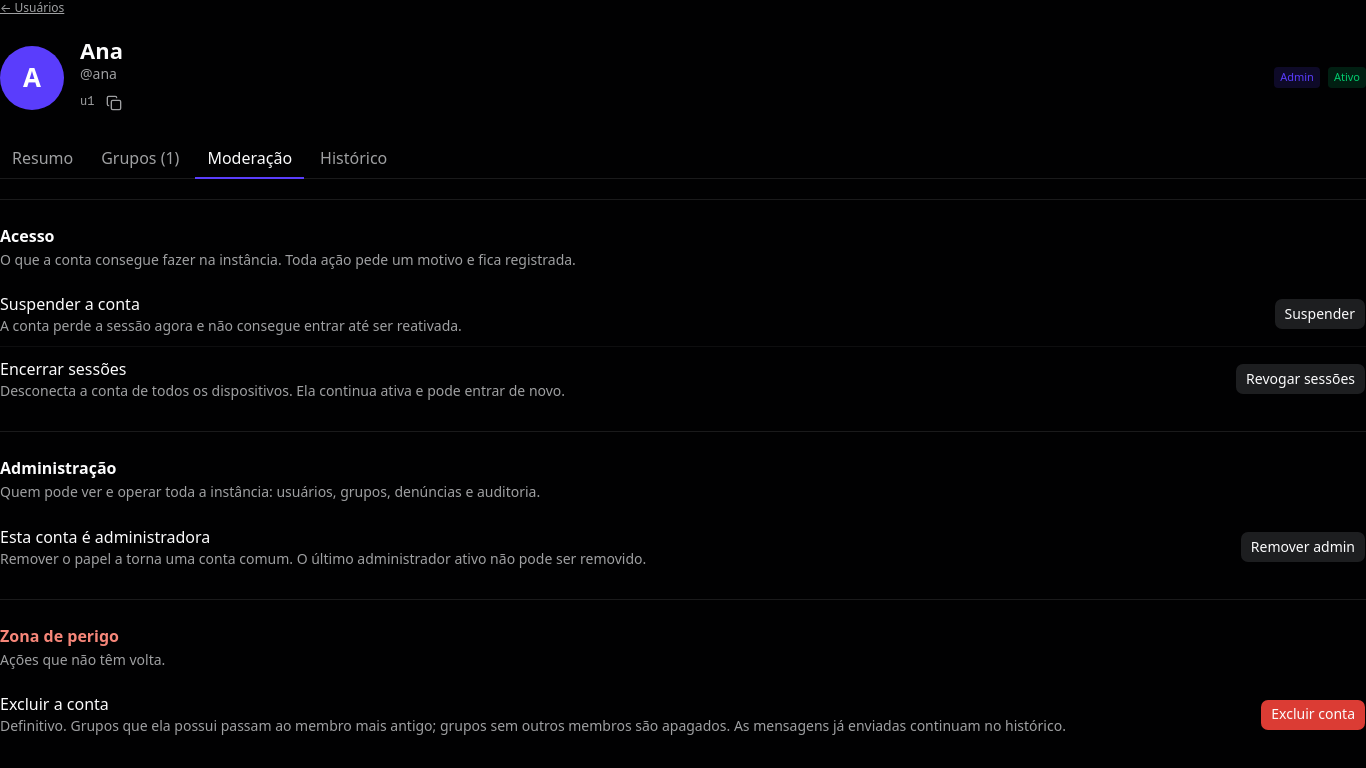
Test case: UserDetailPage › the last active admin shows the translated error
Click the button "Remover admin".
click(1303, 547)  # box [1240,531,1365,563]
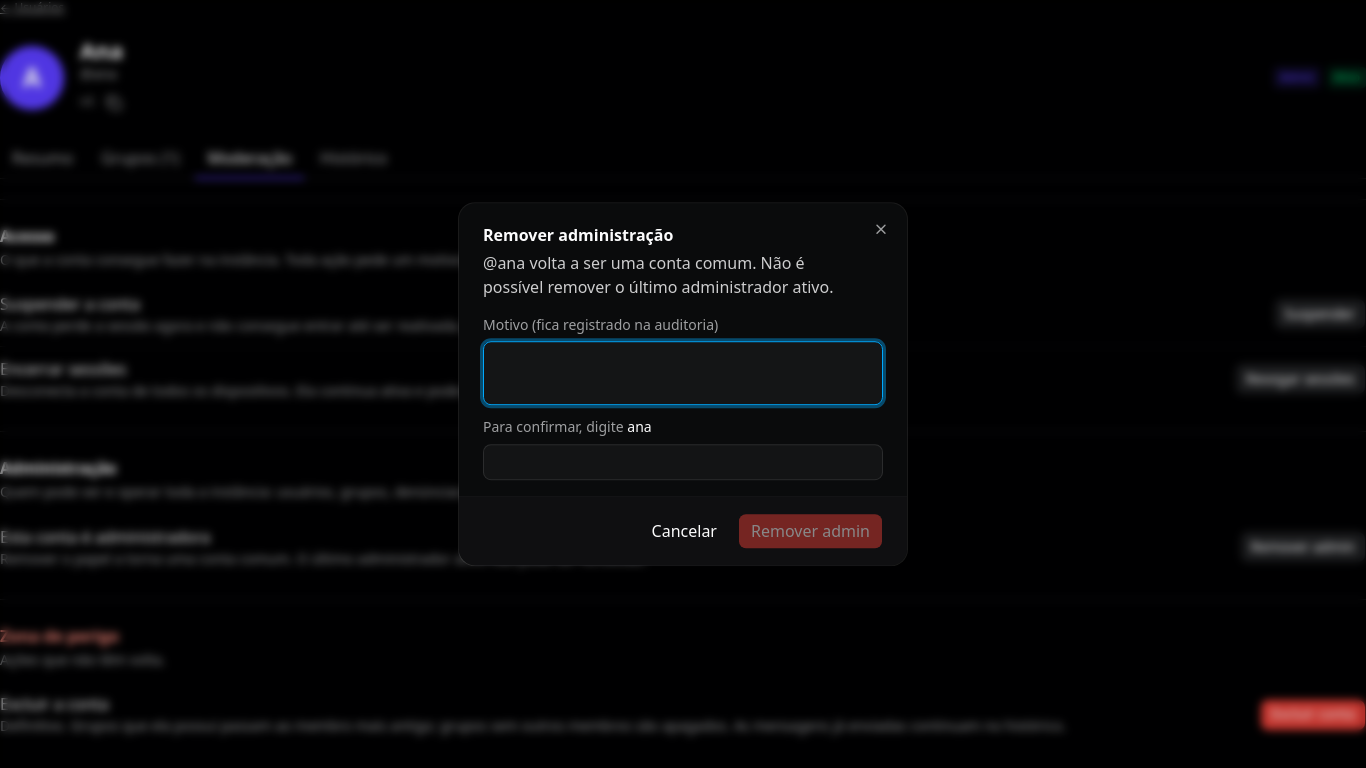
Type "rotation" into the text box labelled "Motivo (fica registrado na auditoria)".
click(683, 374); type("rotation")  # box [483,342,883,406]
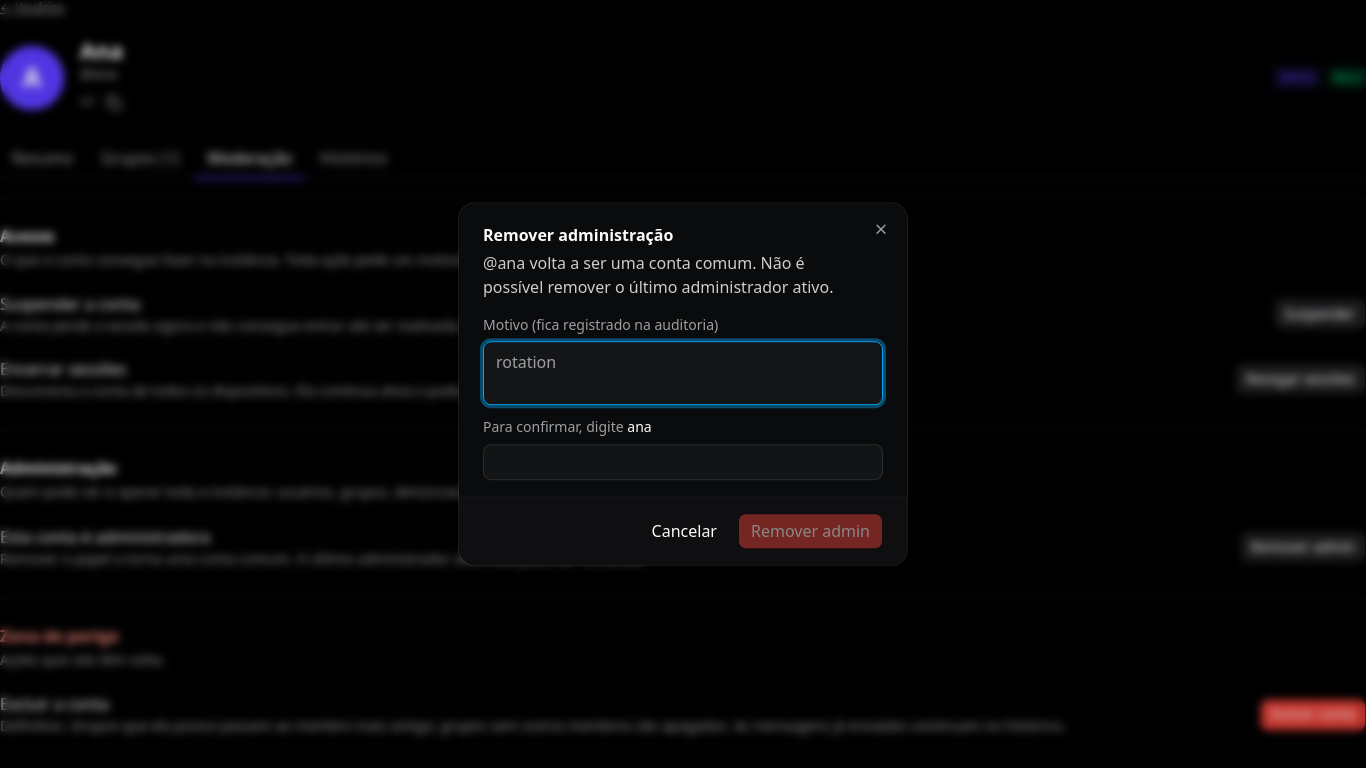
Type "ana" into the field labelled "Para confirmar, digite ana".
click(683, 462); type("ana")  # box [483,444,883,480]
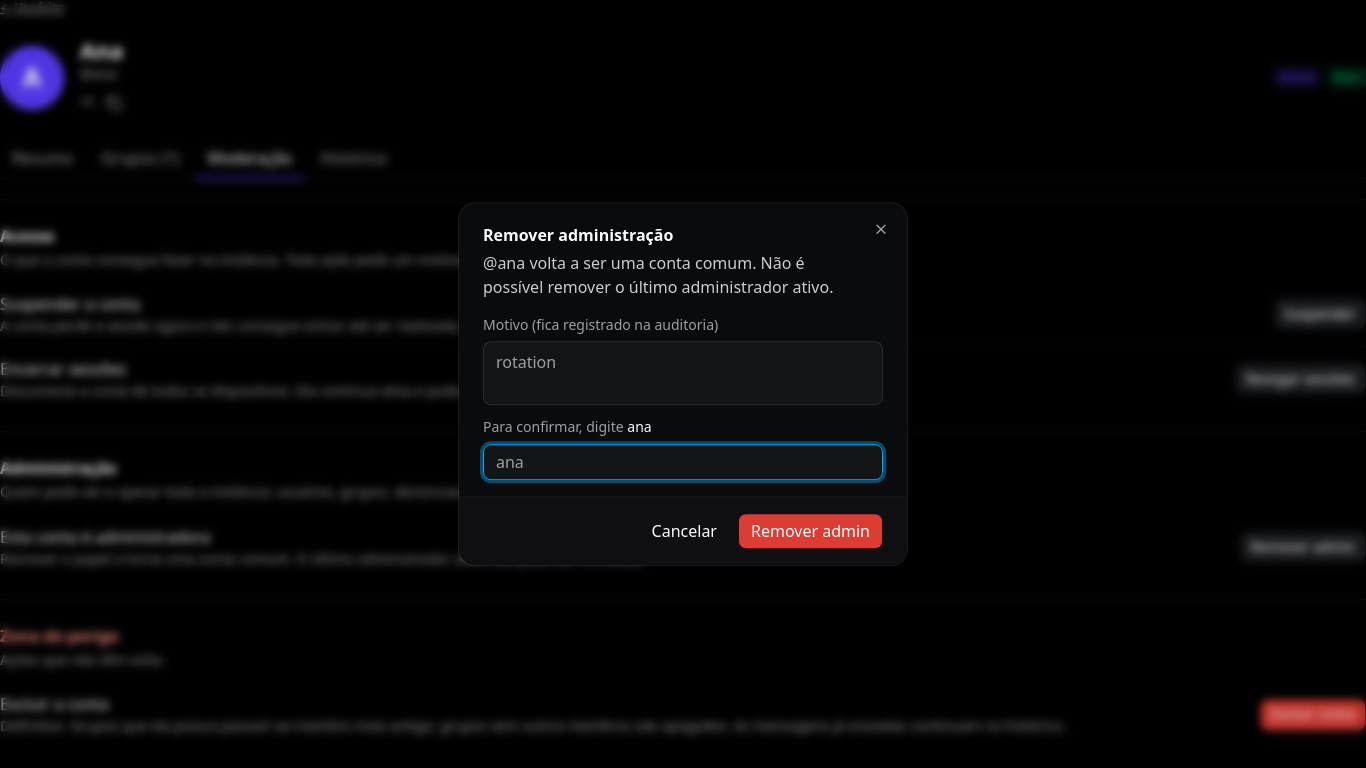
Click the button "Remover admin".
click(810, 531)  # box [738,513,883,549]
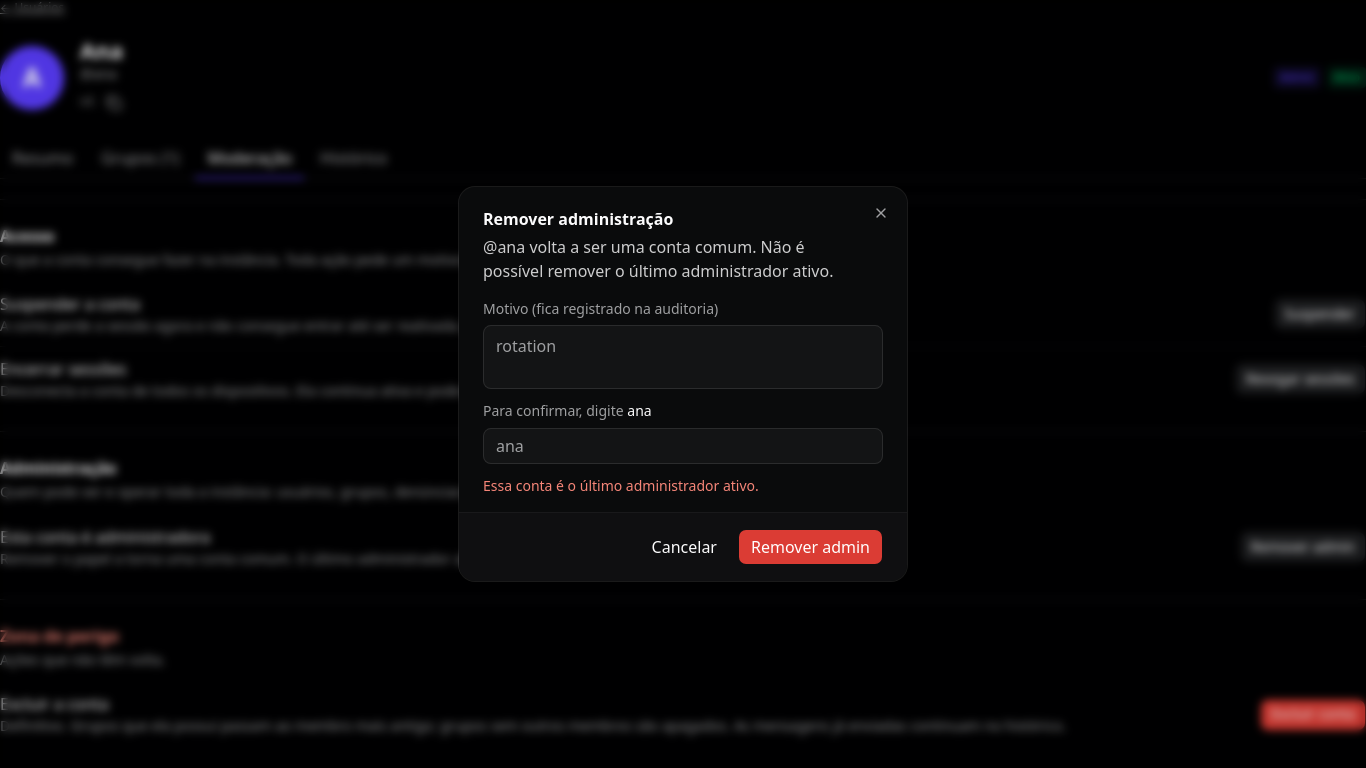
Check: the message shows "último administrador ativo", box [483,476,759,495]
